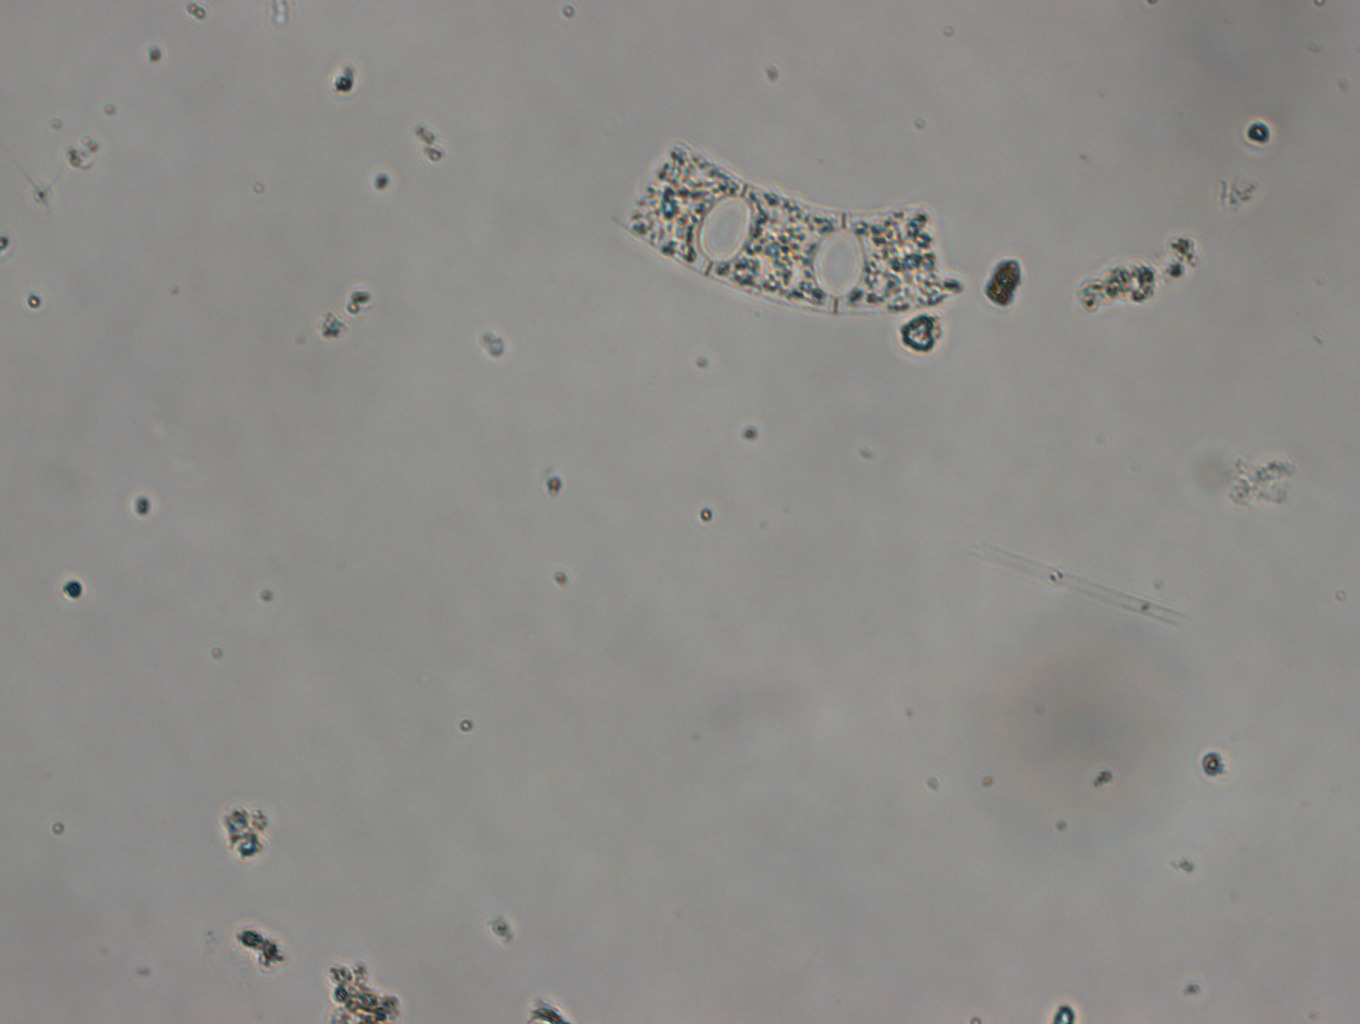eucampia: (614, 144, 971, 309)
